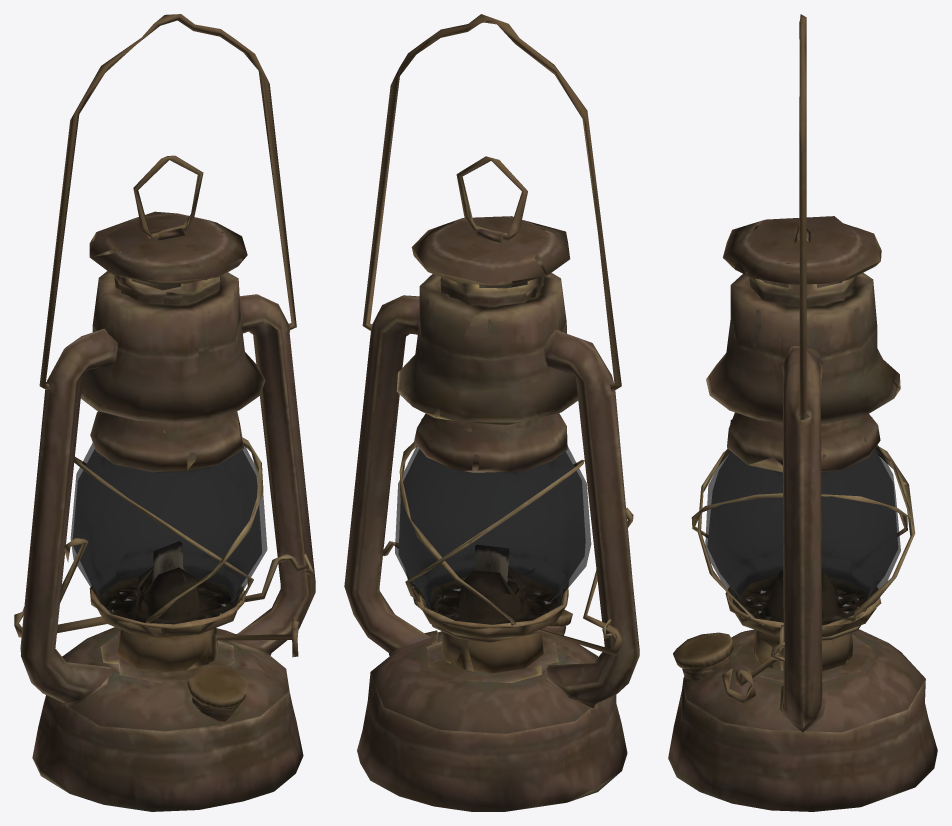
The model's file is decor_lantern.glb.
3 views of the same model, side by side, from view 1: azimuth 30°, elevation 25°; view 2: azimuth 150°, elevation 25°; view 3: azimuth 270°, elevation 25° (orthographic).
Parts seen in each view (by area): view 1: decor_lantern; view 2: decor_lantern; view 3: decor_lantern.
Boxes of the visible parts, x1=… form: decor_lantern: x1=14, y1=14, x2=315, y2=811; decor_lantern: x1=344, y1=14, x2=639, y2=811; decor_lantern: x1=668, y1=14, x2=937, y2=811.
Size of the model in its own units: 0.0918 by 0.2202 by 0.0729.
Materials: 2 (2 with a texture image).
